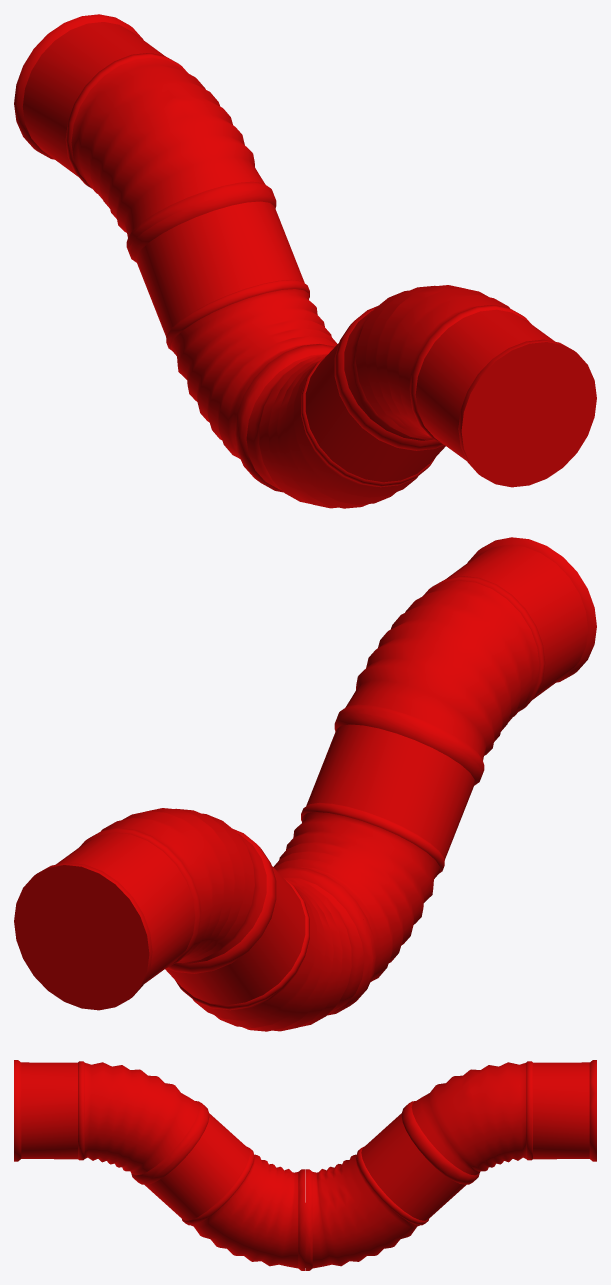
3 renders of one model, top to bottom at view 1: azimuth 30°, elevation 25°; view 2: azimuth 150°, elevation 25°; view 3: azimuth 270°, elevation 25°, orthographic. The views are drawn at different scales.
Visible parts, largest first — view 1: Mesh; view 2: Mesh; view 3: Mesh.
Part boxes in pixels (bbox=[...]): Mesh: bbox=[14, 14, 596, 508]; Mesh: bbox=[14, 537, 596, 1031]; Mesh: bbox=[14, 1060, 596, 1270].
Size of the model in its own units: 0.4202 by 0.9182 by 2.4.
